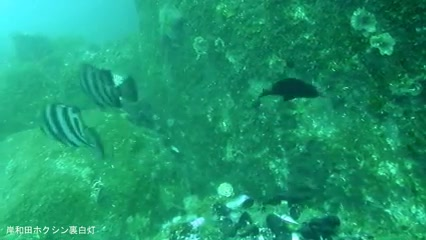ishidai: (31, 107, 111, 152), (79, 65, 130, 109)
